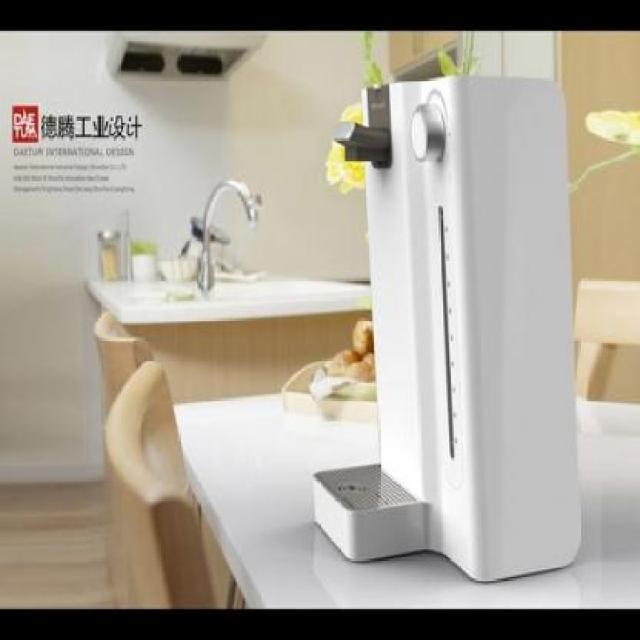cooler: (311, 75, 585, 586)
